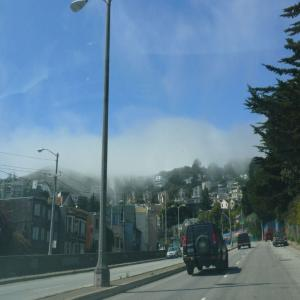Vehicle-registration-plate: (188, 250, 195, 255)
